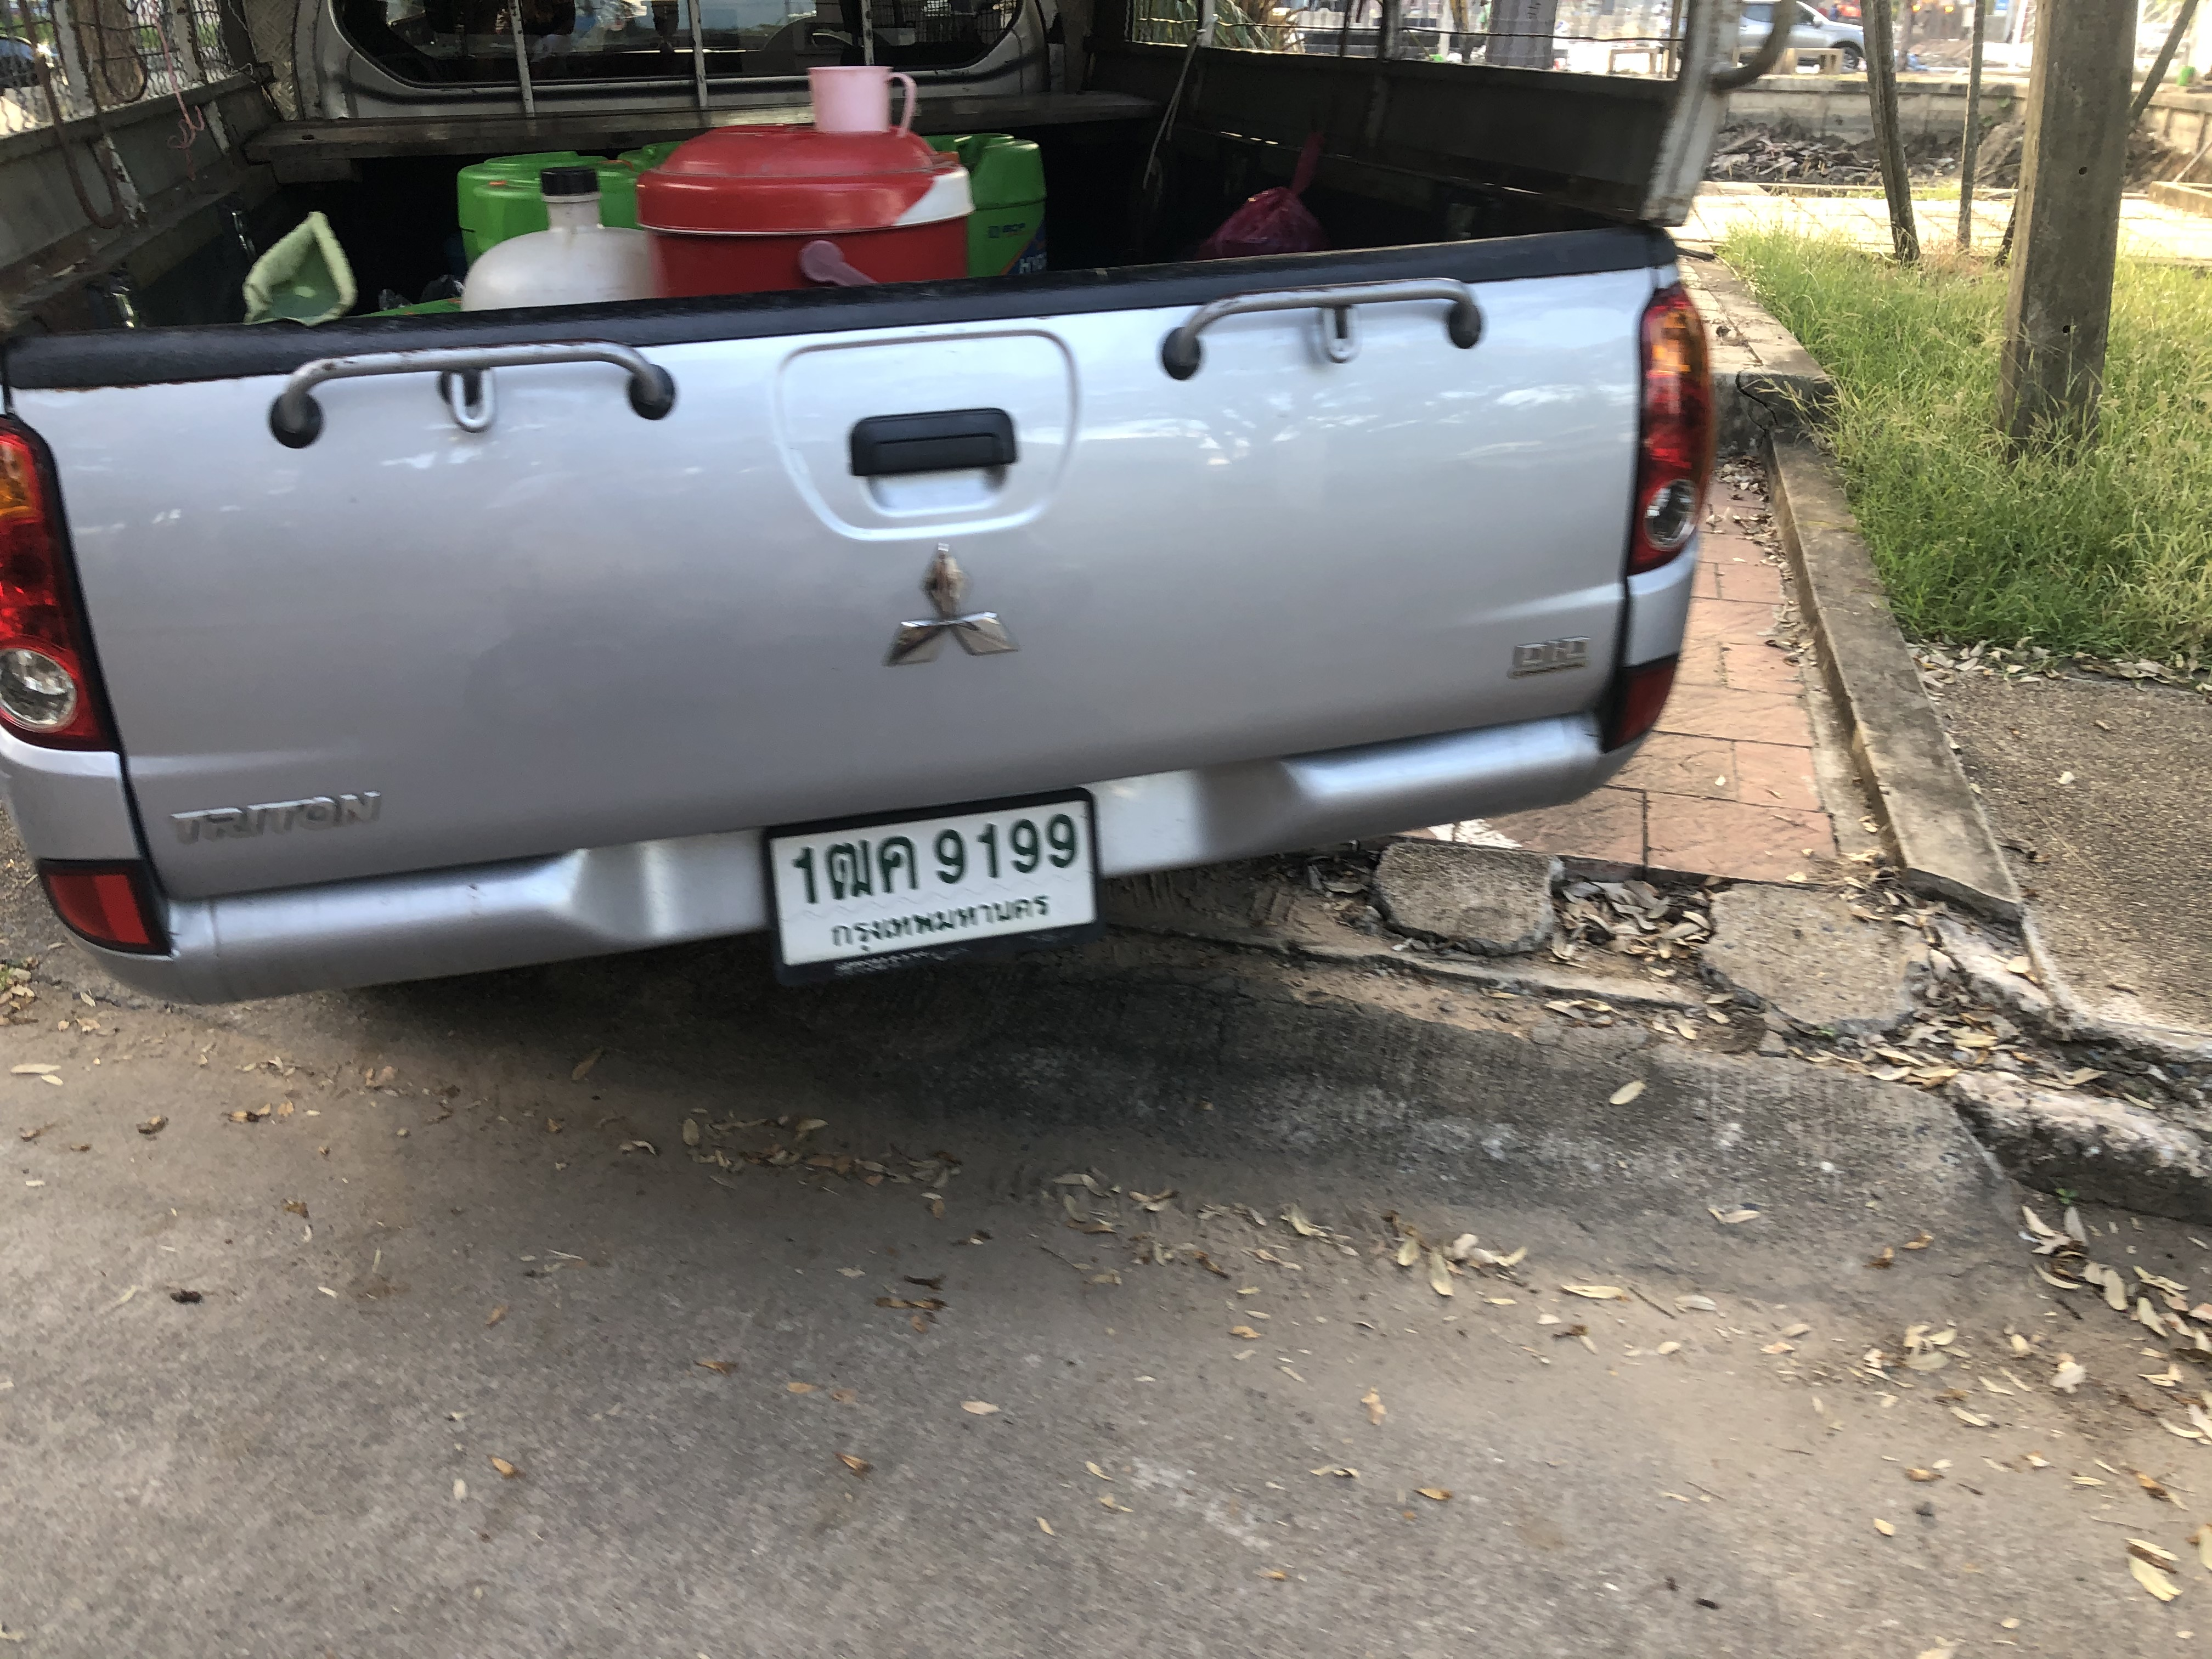in: (768, 800, 1096, 964)
out: (747, 781, 1122, 993)
